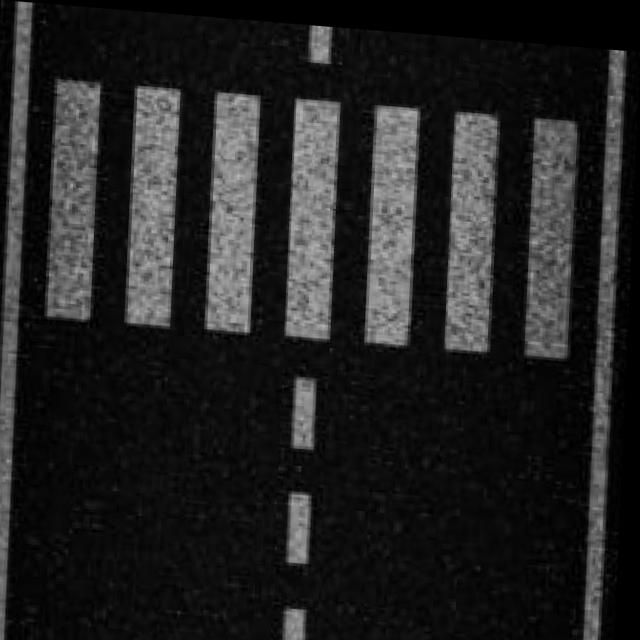zebra: (19, 59, 604, 379)
